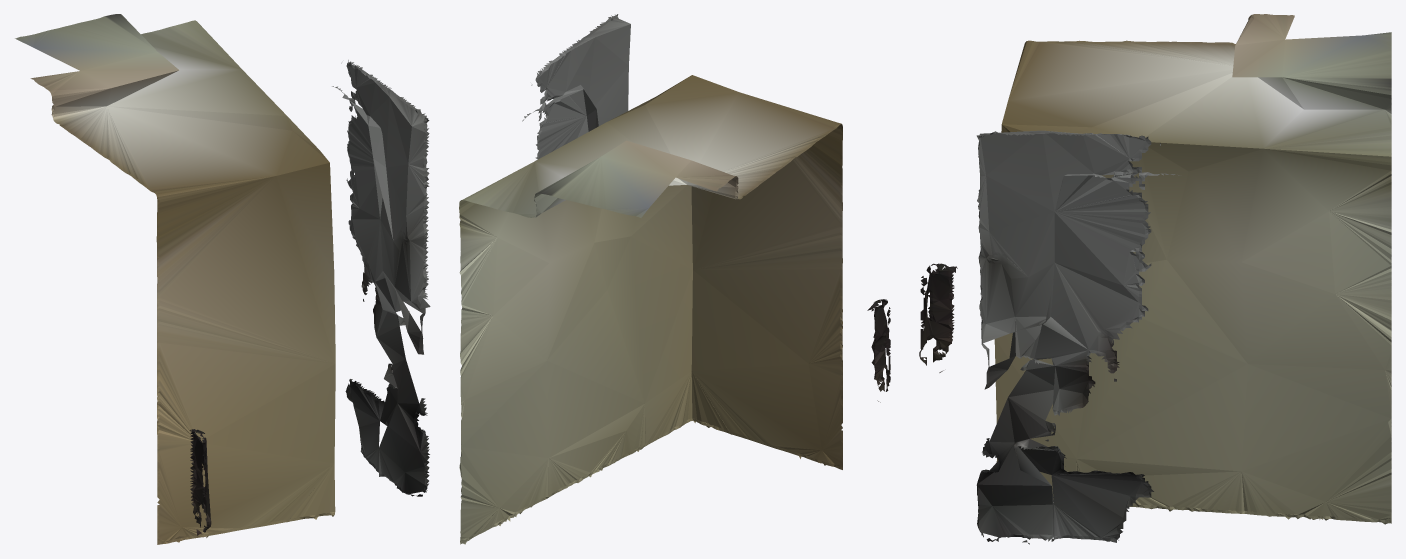
File: coarse.glb
The picture shows the model from 3 angles, left to right: view 1: azimuth 30°, elevation 25°; view 2: azimuth 150°, elevation 25°; view 3: azimuth 270°, elevation 25°; orthographic projection. The views are drawn at different scales.
Size of the model in its own units: 0.8859 by 1.29 by 1.34.
